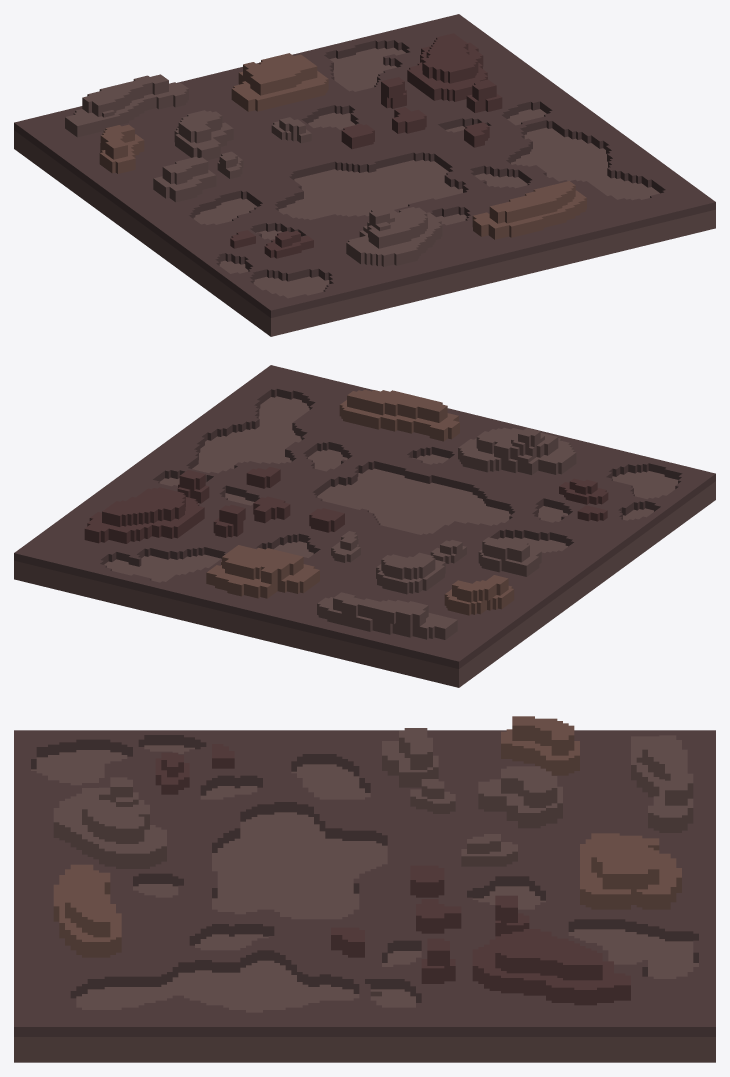
Rendered from tileFloor1W1.obj.
3 renders of one model, top to bottom at view 1: azimuth 30°, elevation 25°; view 2: azimuth 150°, elevation 25°; view 3: azimuth 270°, elevation 25°, orthographic. The views are drawn at different scales.
Size of the model in its own units: 12.4 by 1.6 by 12.4.
1 material, 1 textured.
